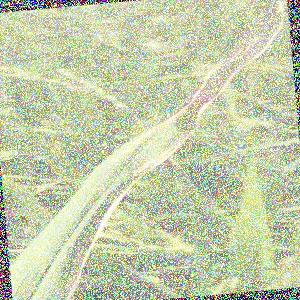Leaf_Blast: (105, 101, 199, 198)
